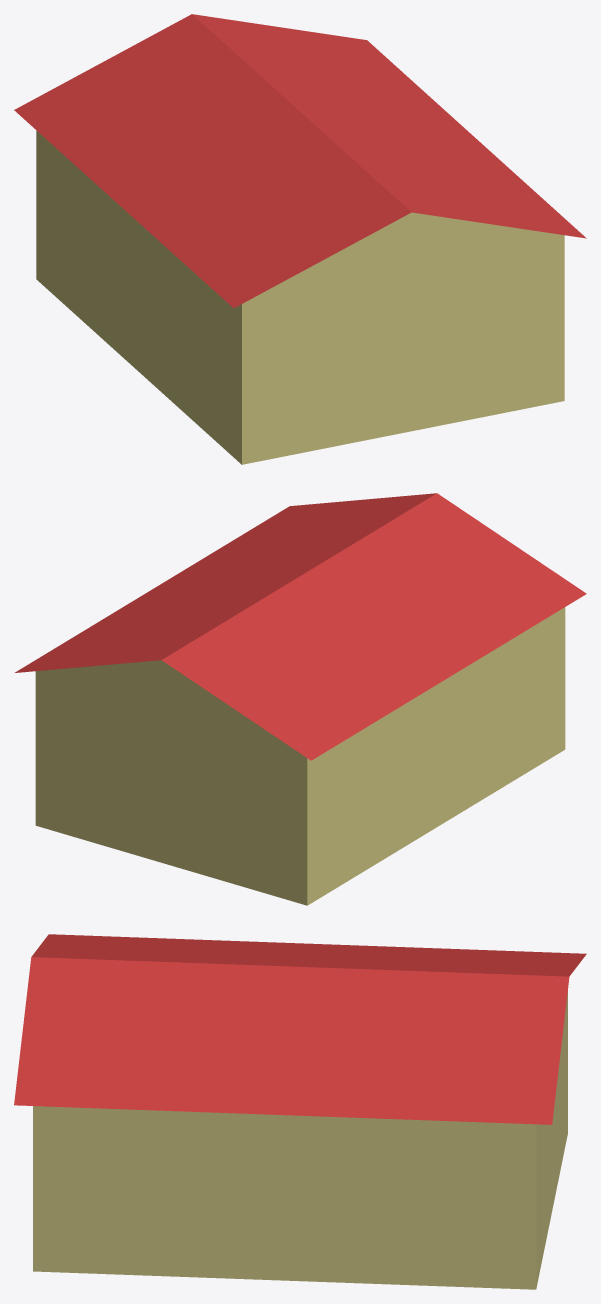
3 views of the same model, one above another, from view 1: azimuth 30°, elevation 25°; view 2: azimuth 150°, elevation 25°; view 3: azimuth 270°, elevation 25° (orthographic). The views are drawn at different scales.
Size of the model in its own units: 19.28 by 24.49 by 11.14.
